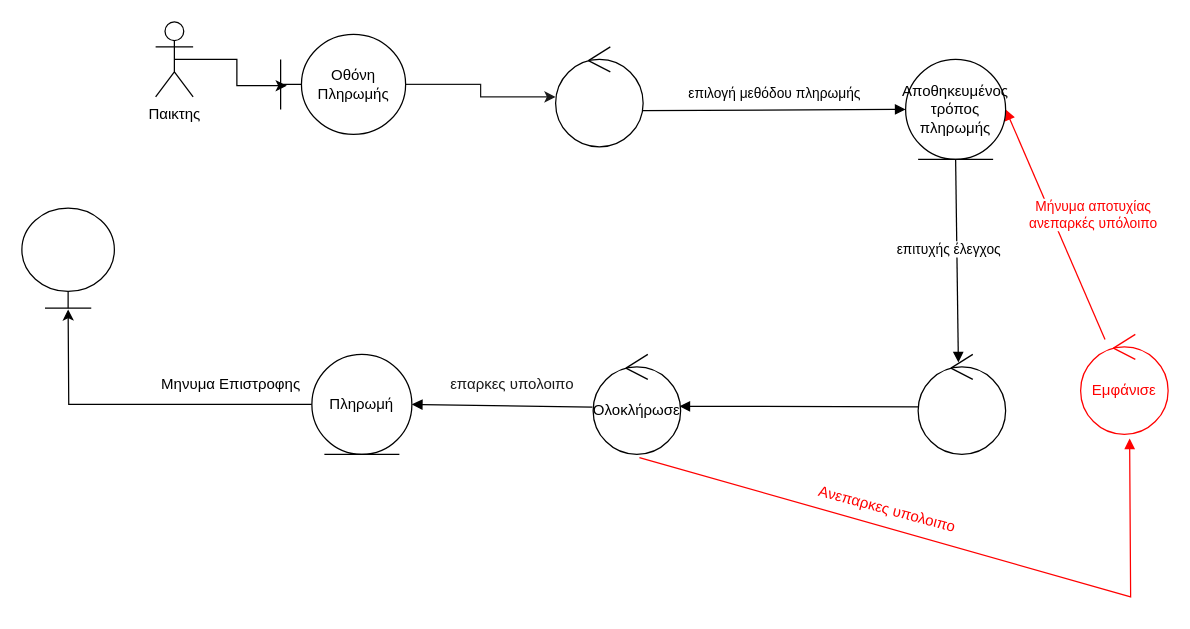
Image size: 1190x629. Some labels were removed from this diagram. Each missing label, with the centre of its shape:
"Αρχική οθόνη" belongs at (67,257).
"Επέλεξε" belongs at (598,96).
"Ολοκλήρωση πληρωμής;" belongs at (961,403).
